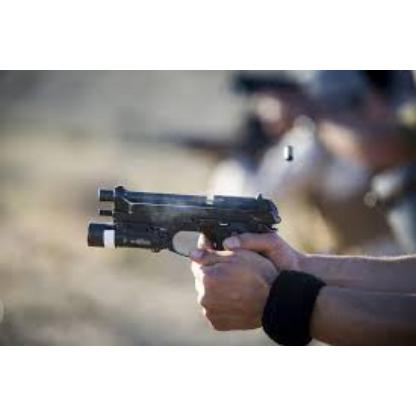gun: (82, 186, 286, 334)
